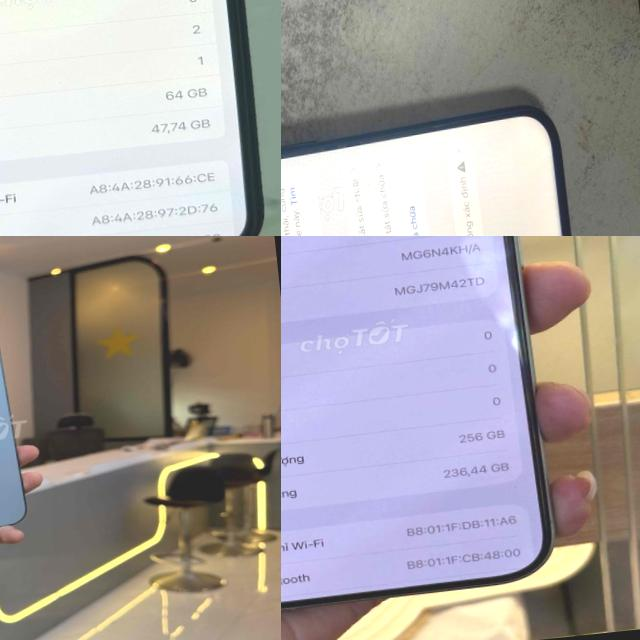gen_12_13: (0, 0, 281, 236), (0, 314, 33, 553)
gen_15: (281, 107, 599, 236)
gen_17: (281, 236, 565, 614)
